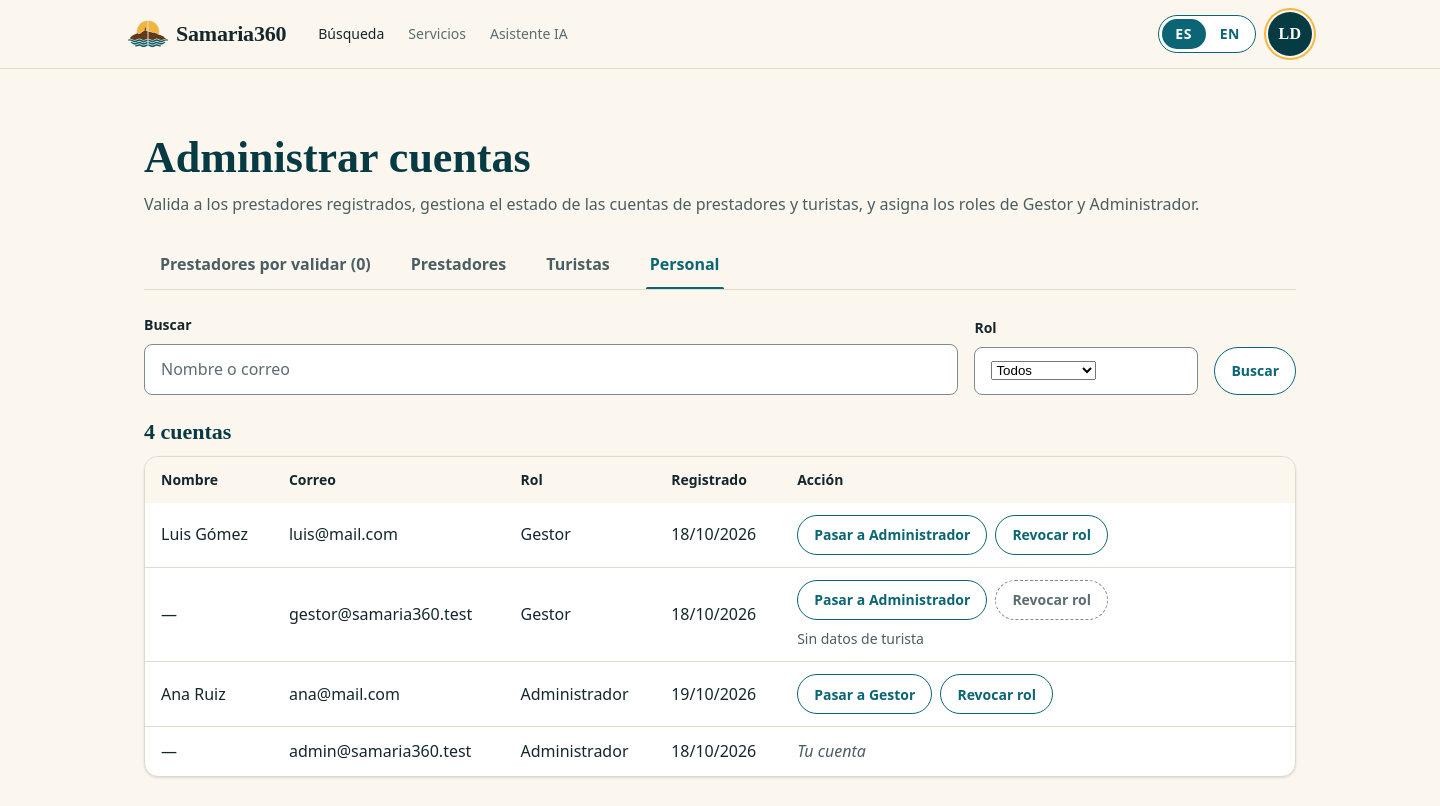
Test: Cambiar rol desde «Personal» (RF45, DEC-118, DEC-120) › modificar: el diálogo muestra los roles sin la advertencia de DEC-112, envía {rolNuevo, rolActual} y reemplaza la fila
Click the button named "Pasar a Administrador: Luis Gómez".
click(892, 535)  # box x1=797 y1=515 x2=987 y2=555
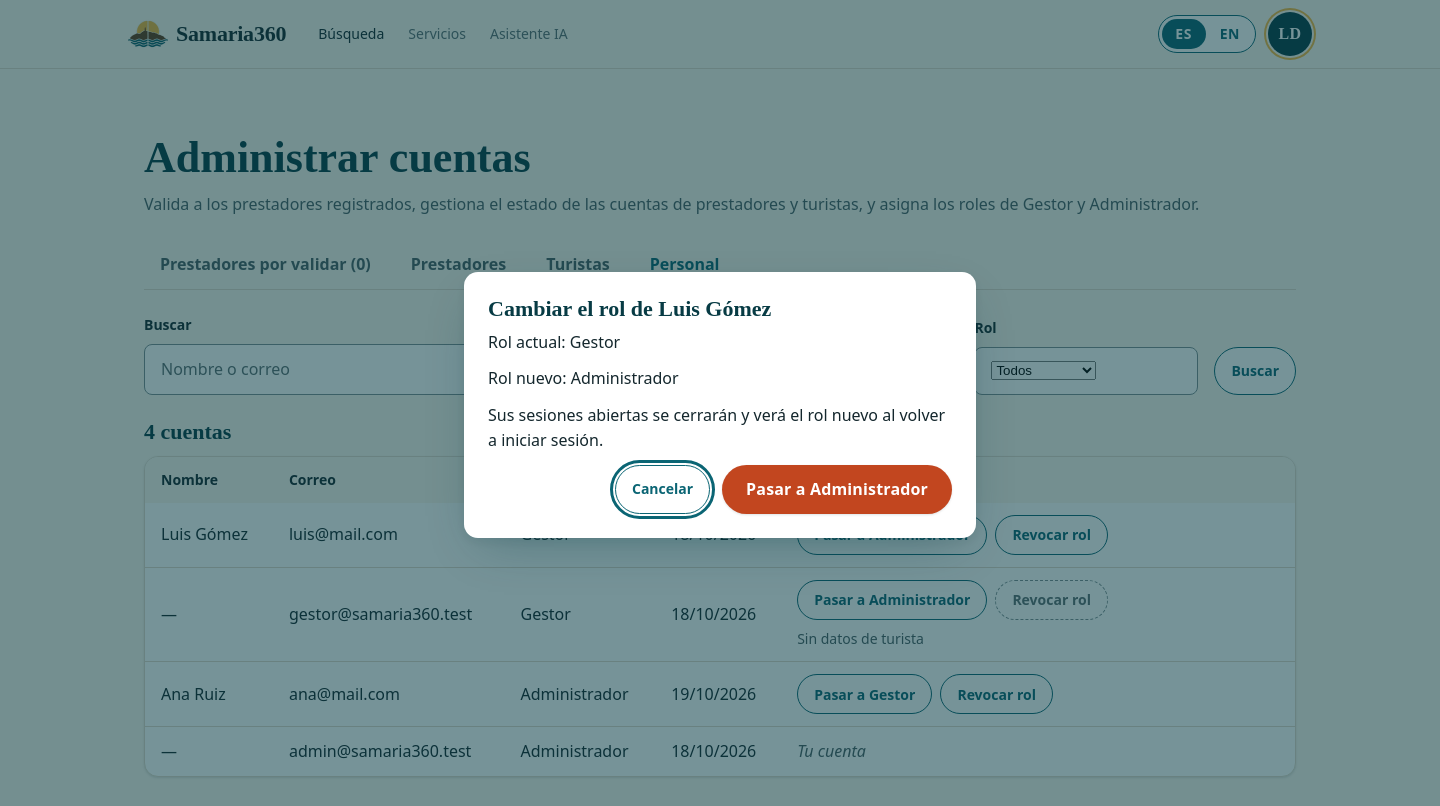
Result: the dialog shows "Rol actual: Gestor" at x1=488 y1=331 x2=620 y2=353
Result: the dialog shows "Rol nuevo: Administrador" at x1=488 y1=368 x2=679 y2=390
Result: the dialog shows "Sus sesiones abiertas se cerrarán y verá el rol nuevo al volver a iniciar sesión." at x1=488 y1=404 x2=945 y2=451
Click the button "Pasar a Administrador".
click(837, 489)  # box x1=722 y1=465 x2=952 y2=514
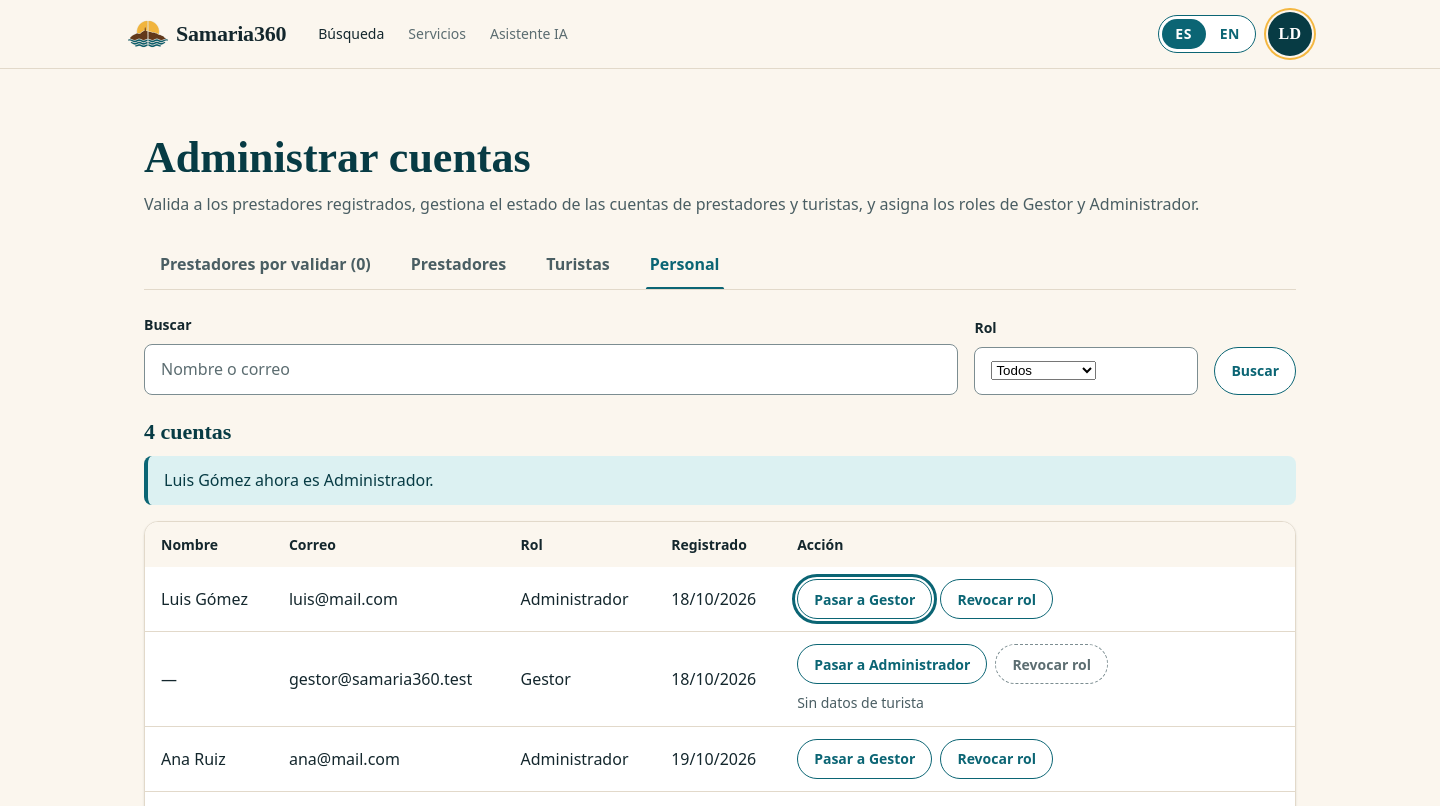
Result: the text "Luis Gómez ahora es Administrador." is shown once at x1=144 y1=456 x2=1296 y2=505
Result: the dialog is gone
Result: the cell "Administrador" next to "luis@mail.com" is shown at x1=520 y1=588 x2=628 y2=610
